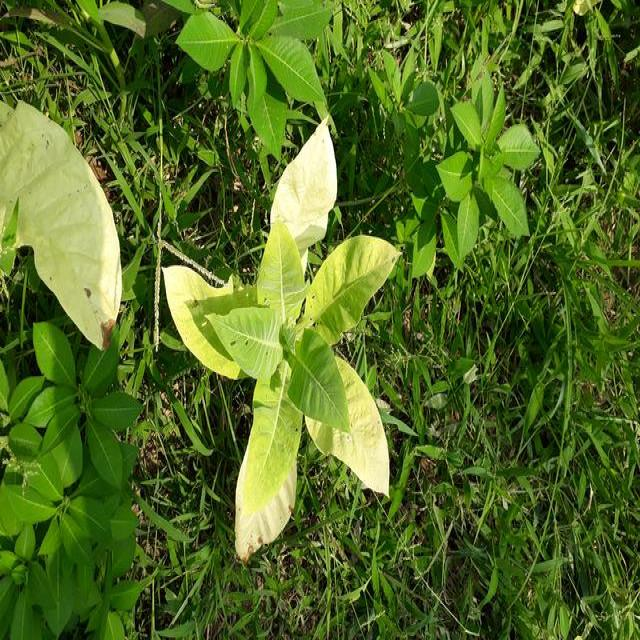crop: (156, 112, 400, 554)
